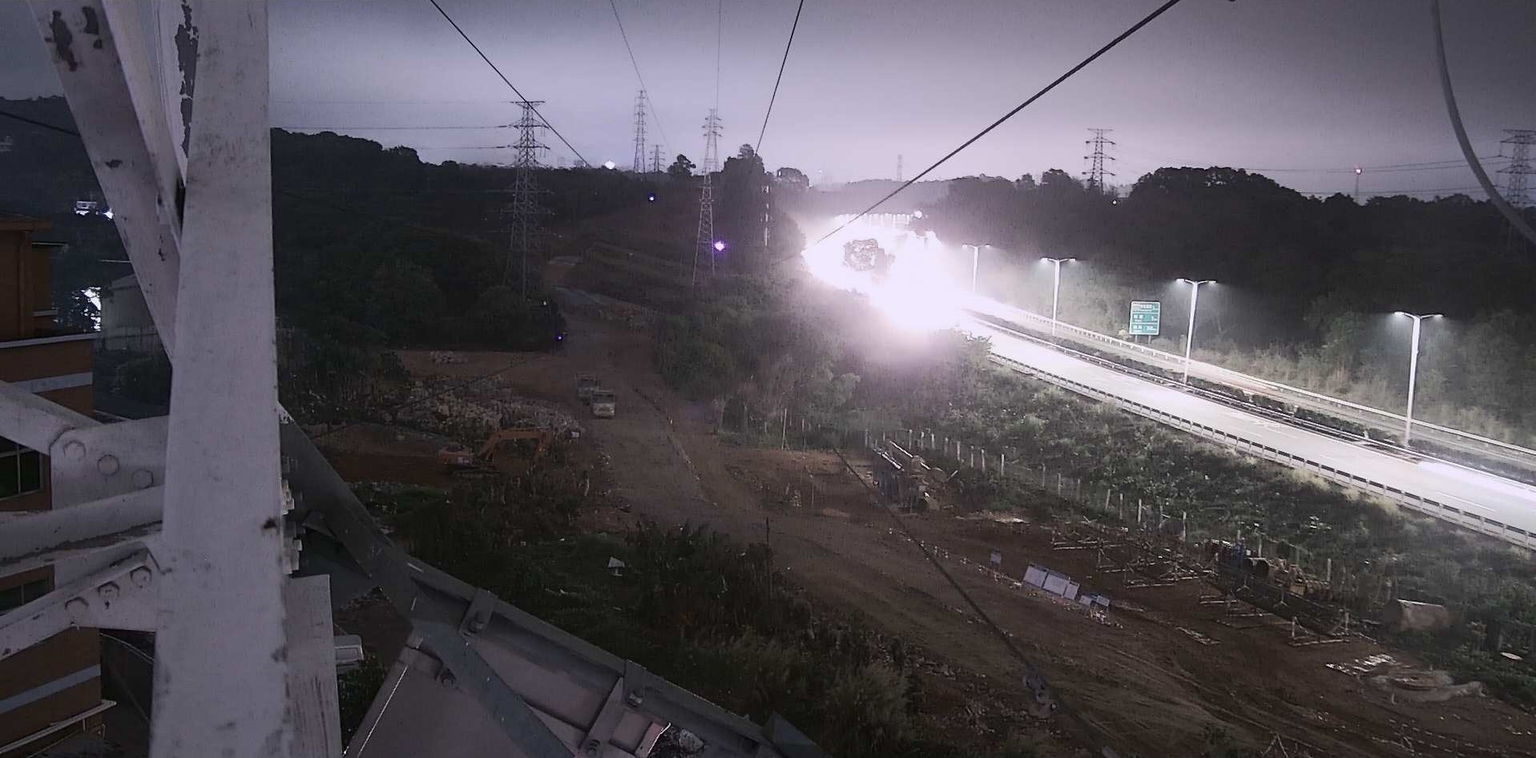过爆灯光: (800, 211, 974, 336)
